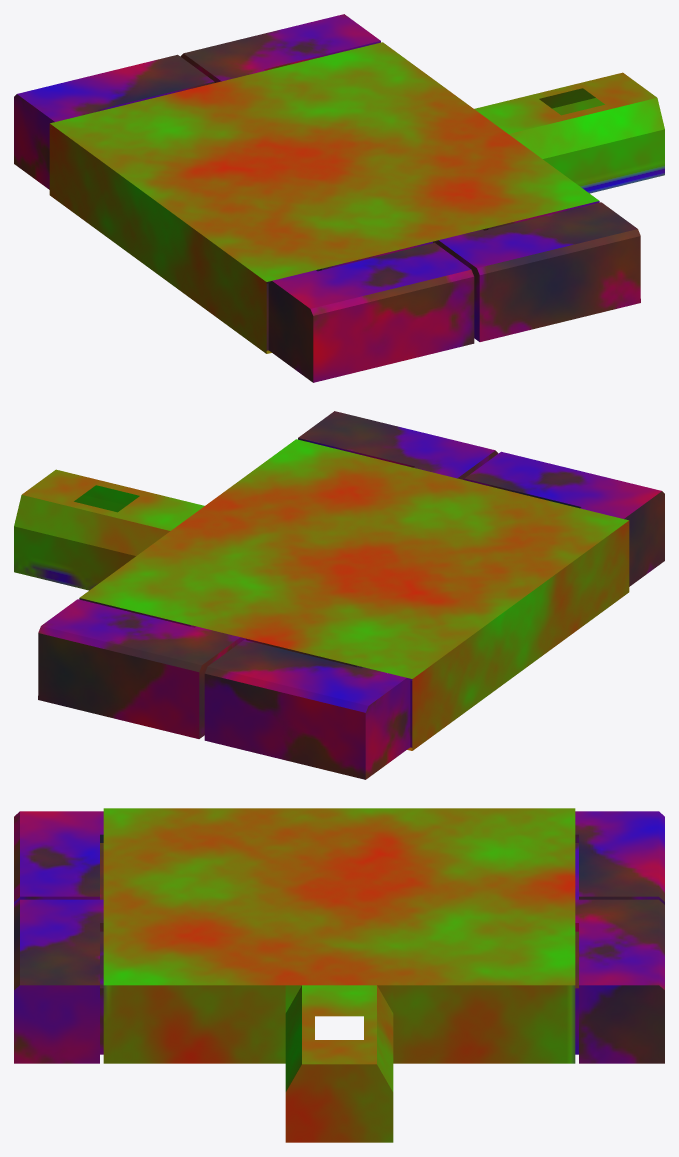
The model's file is Room.fbx.
The picture shows the model from 3 angles, top to bottom: view 1: azimuth 30°, elevation 25°; view 2: azimuth 150°, elevation 25°; view 3: azimuth 270°, elevation 25°; orthographic projection. The views are drawn at different scales.
Visible parts, largest first — view 1: Walls, Cells; view 2: Walls, Cells; view 3: Walls, Cells.
Part boxes in pixels (x1,y1,x2,y2): Walls: (49,42,664,353); Cells: (14,14,640,382); Walls: (14,439,629,750); Cells: (38,411,664,779); Walls: (103,808,575,1142); Cells: (14,811,664,1063).
Bounding box in the file's own units: 22.62 × 3.23 × 24.31.
3 materials, 3 textured.
